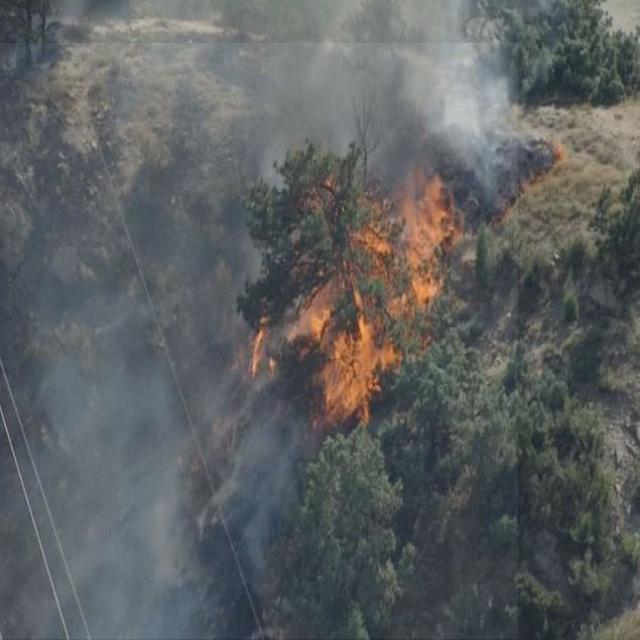Fire: (274, 172, 466, 418)
Smoke: (0, 43, 518, 640)
